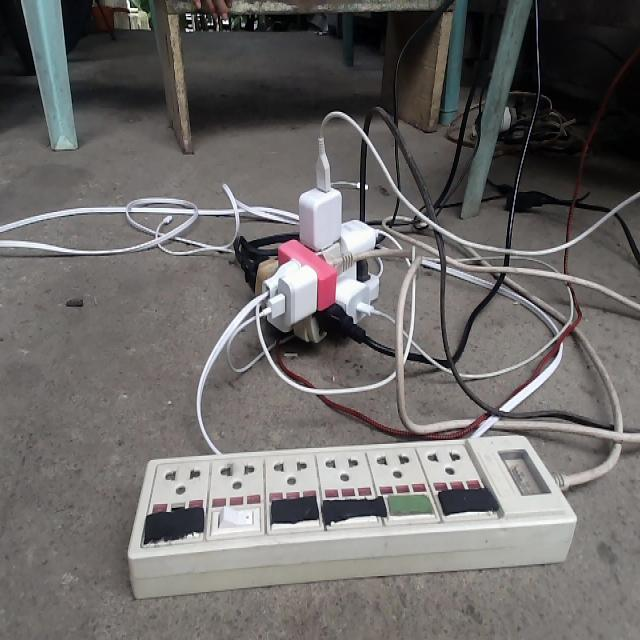-: (237, 174, 382, 346)
